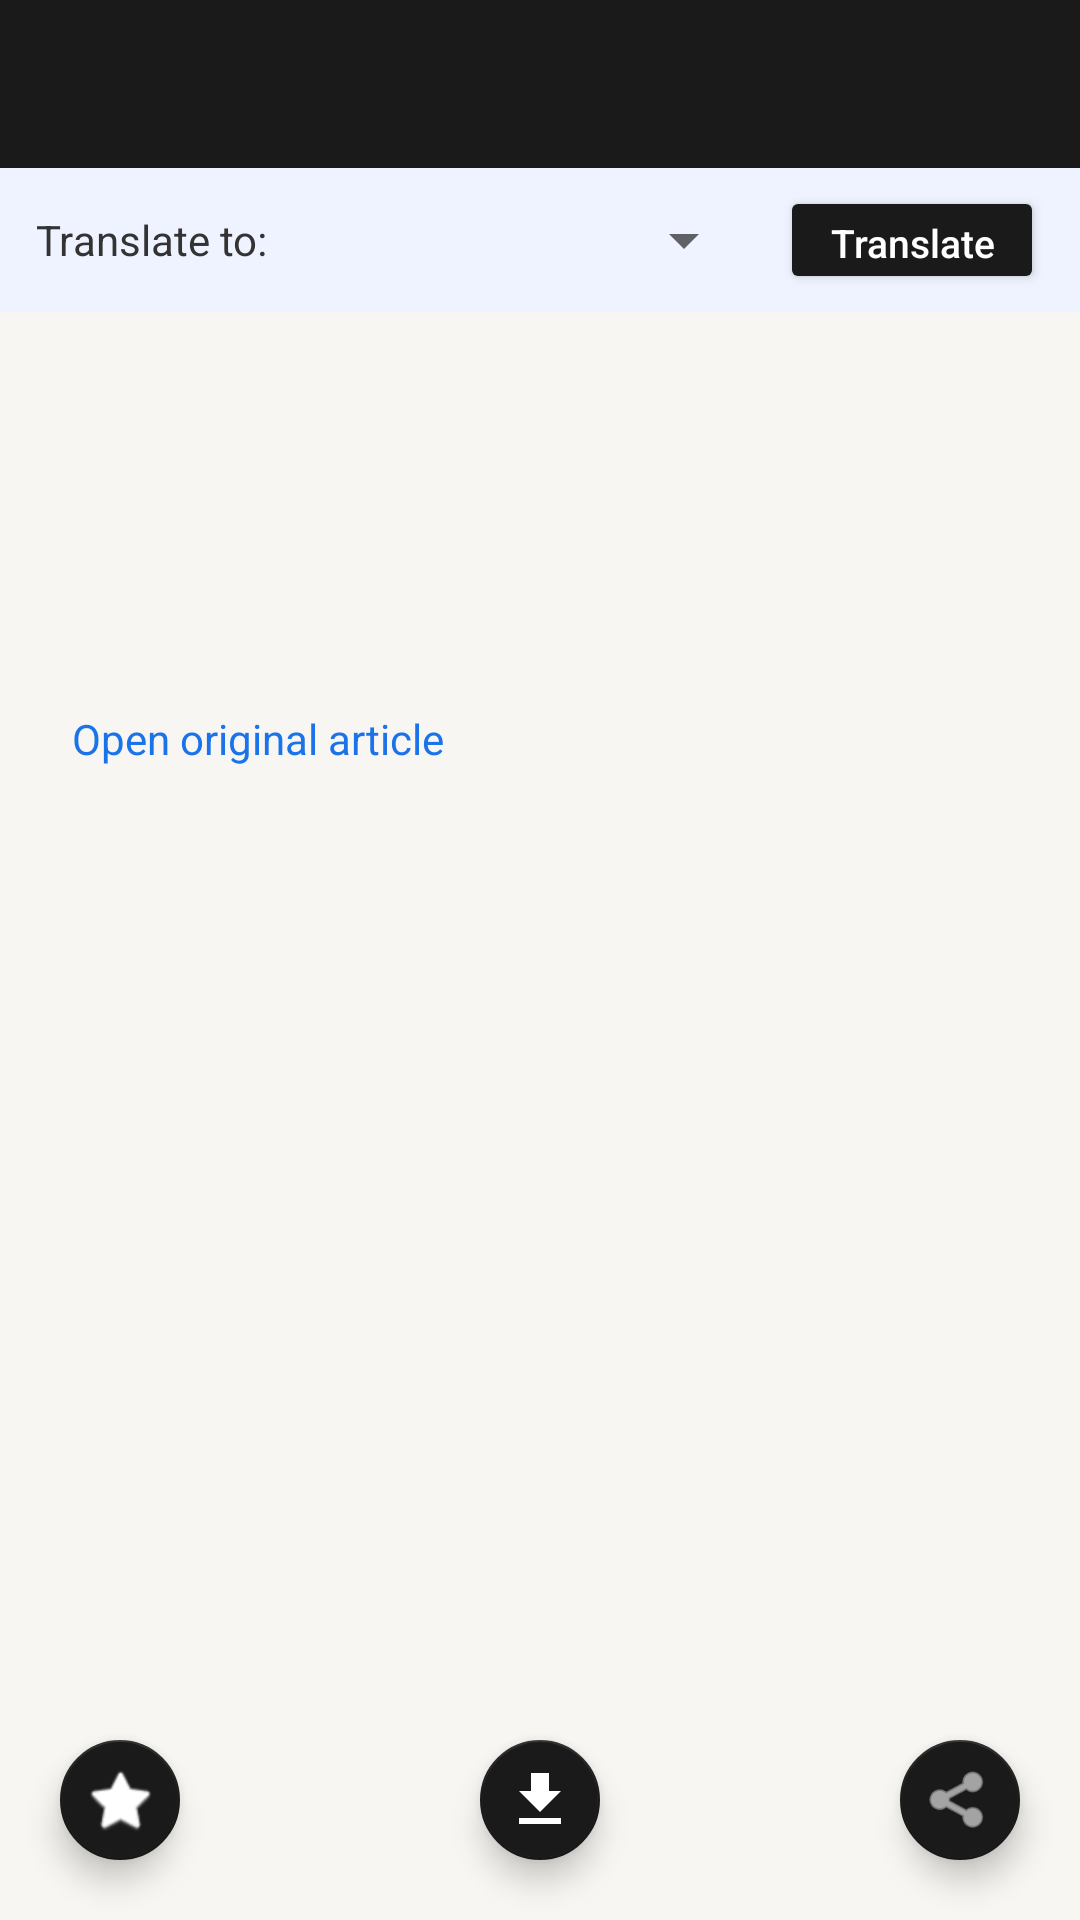

Locate icon controls on the screen. Image size 1080×1920, boxes as (x1, y1, x2, y2).
download: (480, 1740, 600, 1872)
share: (900, 1740, 1023, 1872)
